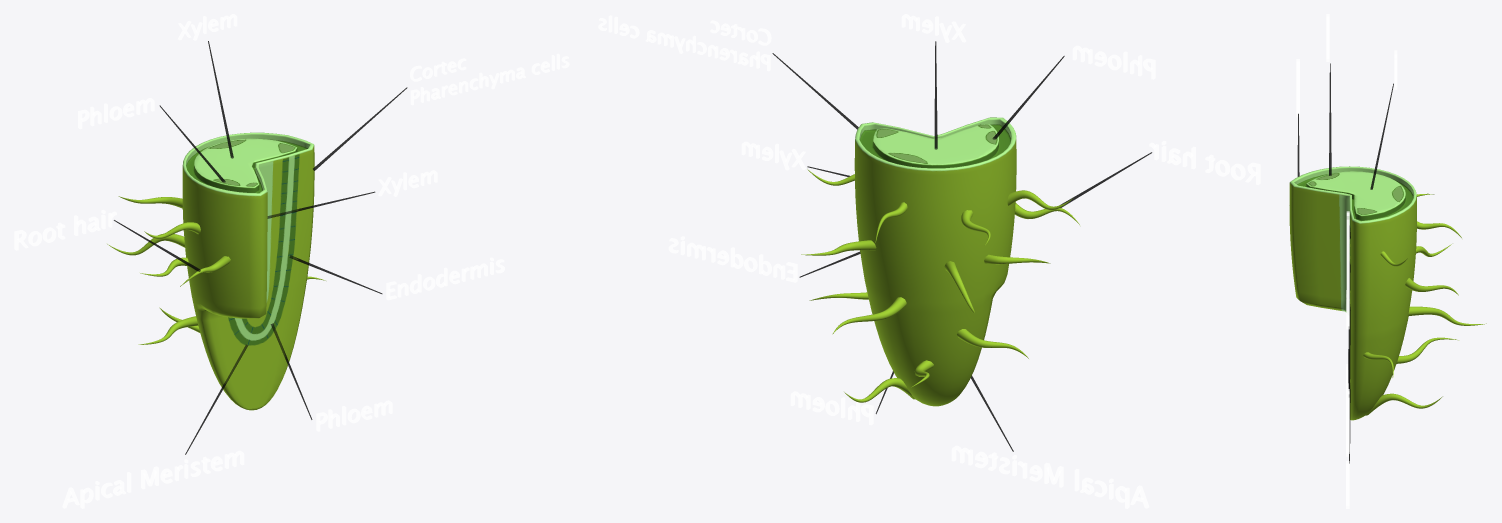
The model's file is root_cross_section.glb.
The picture shows the model from 3 angles, left to right: view 1: azimuth 30°, elevation 25°; view 2: azimuth 150°, elevation 25°; view 3: azimuth 270°, elevation 25°; orthographic projection. The views are drawn at different scales.
Visible parts, largest first — view 1: pSphere1, typeMesh9, sweep15, sweep24; view 2: pSphere1, typeMesh9, sweep15, sweep24; view 3: pSphere1, sweep15, typeMesh9, sweep24.
Part boxes in pixels (x1,y1,x2,y2): pSphere1: (182, 132, 314, 410); typeMesh9: (14, 14, 569, 508); sweep15: (107, 196, 325, 344); sweep24: (114, 41, 407, 454); pSphere1: (854, 117, 1016, 406); typeMesh9: (598, 14, 1260, 508); sweep15: (801, 169, 1079, 402); sweep24: (772, 41, 1151, 451); pSphere1: (1289, 166, 1416, 420); sweep15: (1363, 193, 1486, 415); typeMesh9: (1296, 14, 1397, 508); sweep24: (1297, 63, 1393, 463).
Bounding box in the file's own units: 0.462 × 0.3308 × 0.1504.
4 materials, 2 textured.
